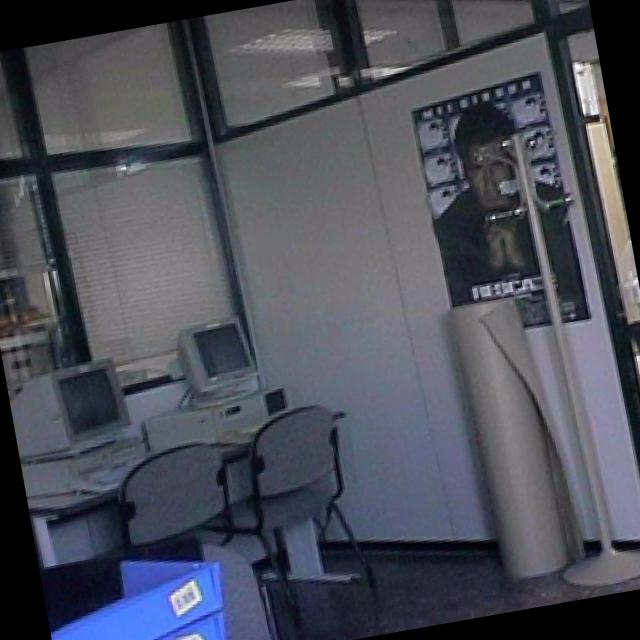2011: (0, 21, 232, 388), (184, 0, 581, 136)
boxes: (38, 558, 223, 640)
chair -occluded-: (225, 404, 373, 615), (119, 442, 234, 543)
chair seat: (200, 542, 272, 640)
coat: (469, 123, 640, 588)
computer crop: (137, 387, 260, 449), (20, 433, 140, 494)
desk calendar: (28, 407, 354, 580)
door handle: (561, 26, 640, 405)
keyboard crop: (75, 452, 145, 488), (216, 408, 280, 442)
monitor crop: (8, 356, 124, 460), (155, 312, 260, 401)
paper towel dispense: (444, 294, 582, 578)
poster crop: (404, 69, 588, 325)
